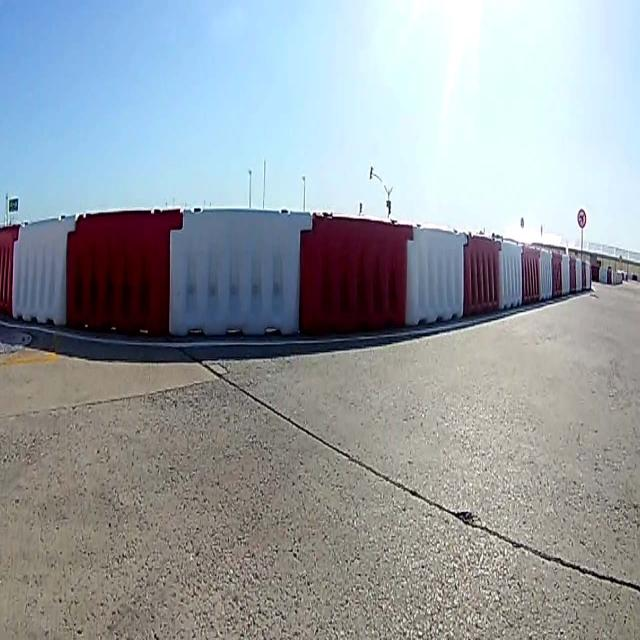soladonulmez: (577, 209, 587, 228)
